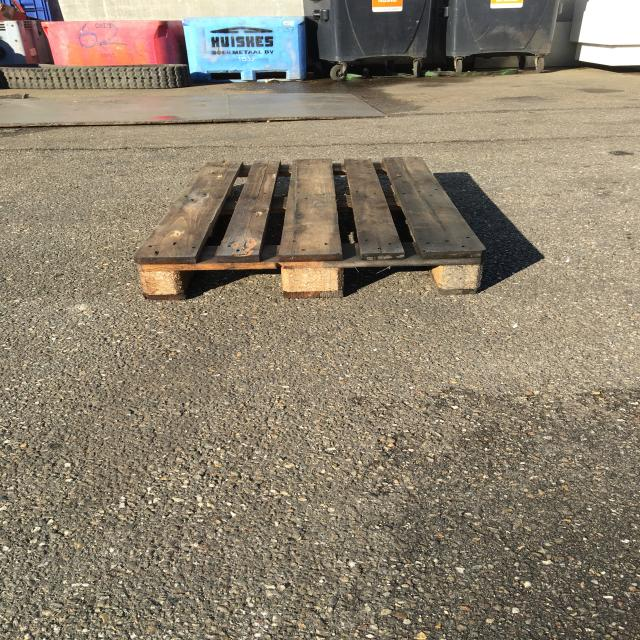block: (282, 262, 346, 302), (428, 261, 485, 295), (136, 260, 184, 300)
front: (136, 254, 490, 303)
